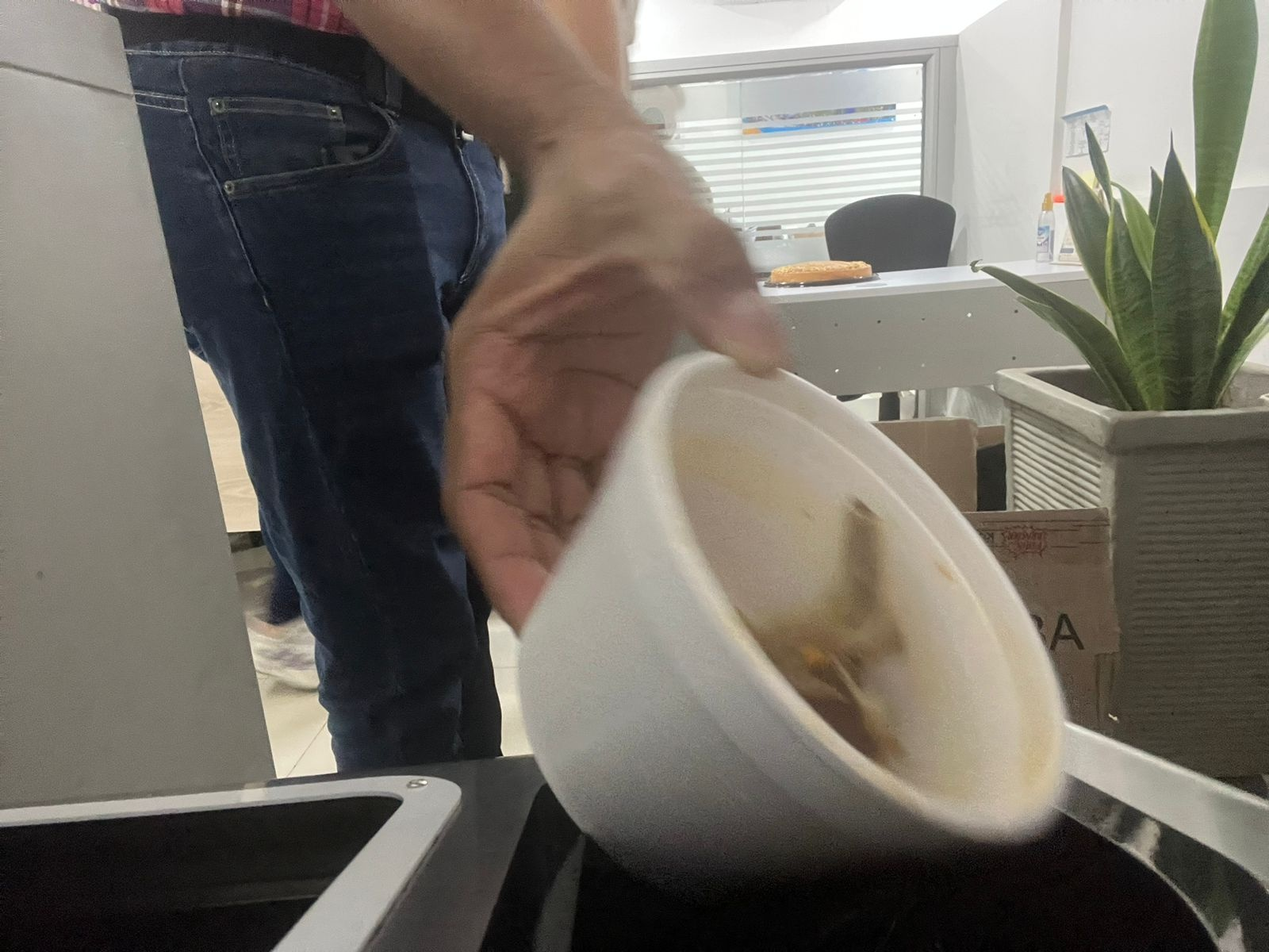Ordinario: (514, 351, 1066, 875)
